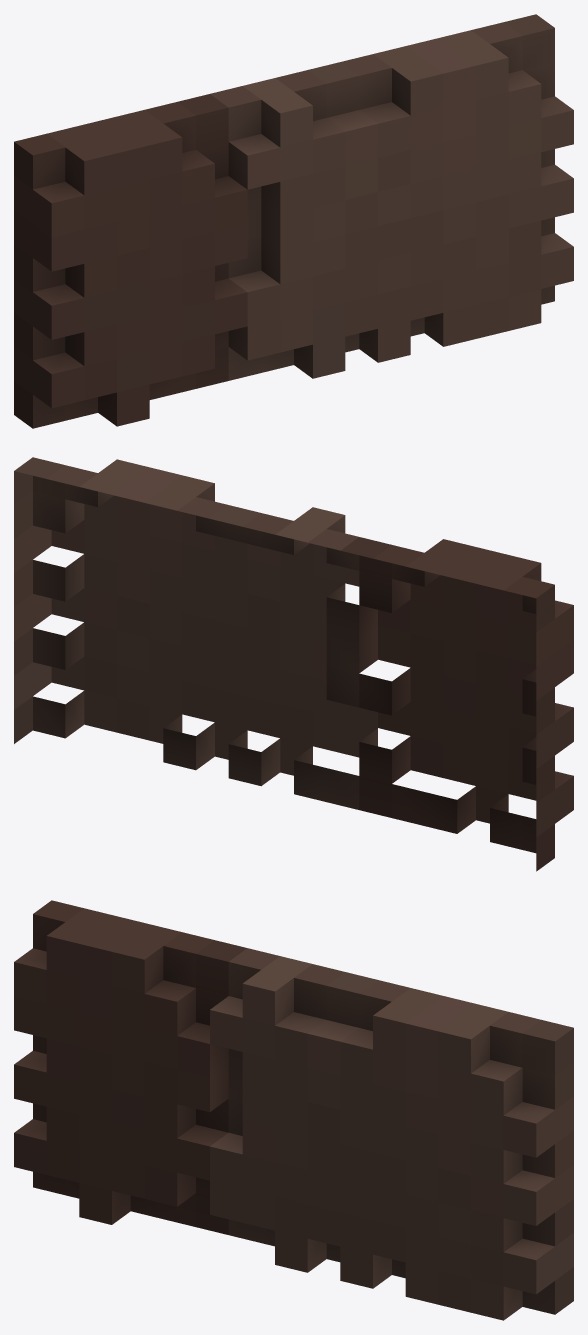
The model's file is ashlar_plain_3.glb.
3 views of the same model, one above another, from view 1: azimuth 30°, elevation 25°; view 2: azimuth 150°, elevation 25°; view 3: azimuth 330°, elevation 25° (orthographic).
Parts seen in each view (by area): view 1: ashlar_plain_3; view 2: ashlar_plain_3; view 3: ashlar_plain_3.
Boxes of the visible parts, x1,y1,x2,y2 form: ashlar_plain_3: (14, 14, 573, 428); ashlar_plain_3: (14, 457, 573, 871); ashlar_plain_3: (14, 900, 573, 1320).
Bounding box in the file's own units: 1 × 0.5 × 0.125.
